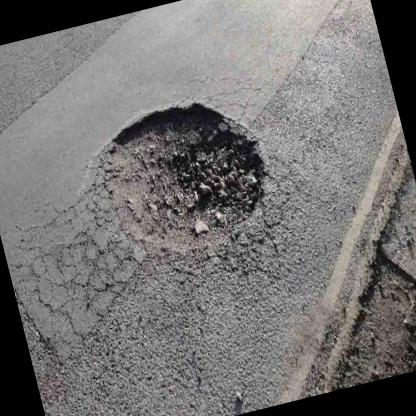pothole: (69, 83, 284, 268), (293, 232, 416, 391)
